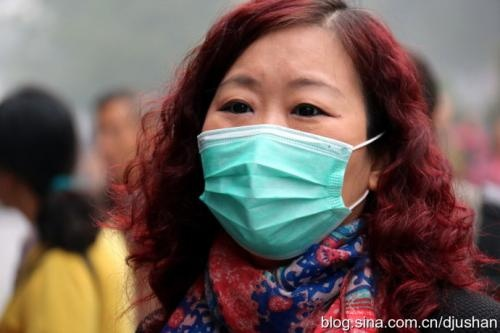correctlyWear: (195, 67, 390, 261)
